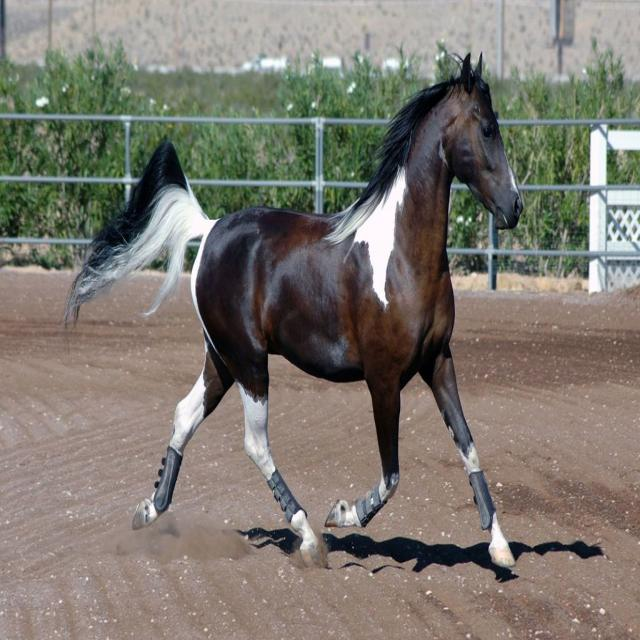Horse: (55, 50, 523, 568)
